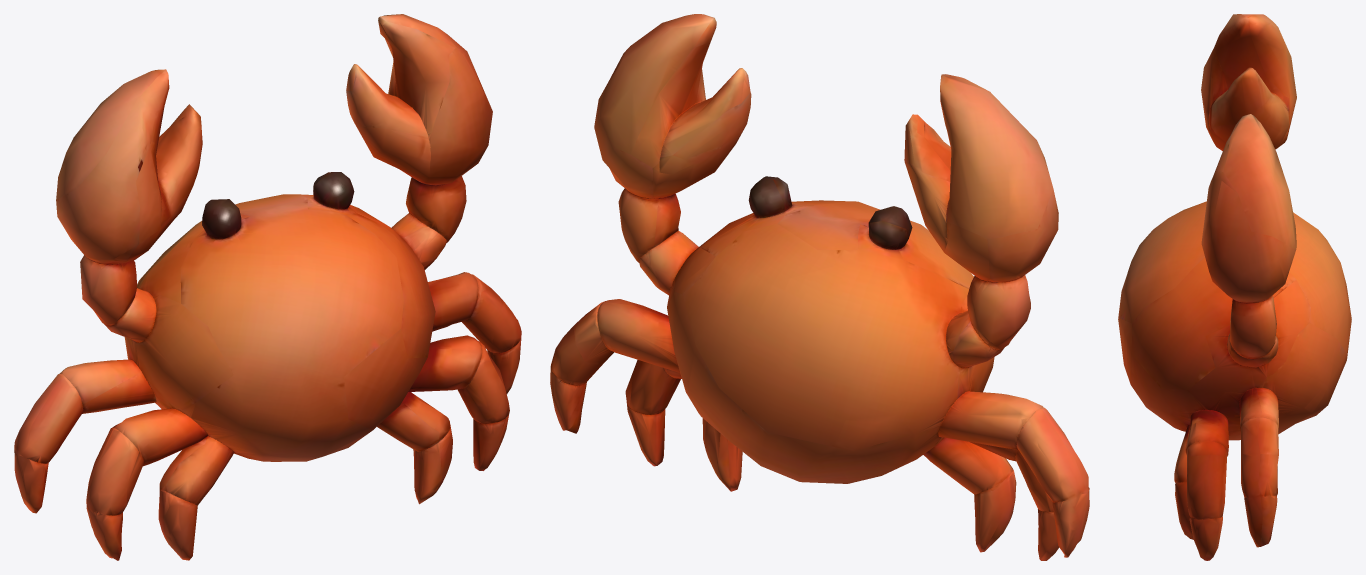
The model's file is crab_pbr.glb.
The picture shows the model from 3 angles, left to right: view 1: azimuth 30°, elevation 25°; view 2: azimuth 150°, elevation 25°; view 3: azimuth 270°, elevation 25°; orthographic projection. The views are drawn at different scales.
Visible parts, largest first — view 1: model.003; view 2: model.003; view 3: model.003.
Boxes of the visible parts, bbox=[...] form: model.003: bbox=[14, 14, 521, 560]; model.003: bbox=[550, 14, 1089, 560]; model.003: bbox=[1118, 14, 1351, 560].
Bounding box in the file's own units: 1.36 × 1.22 × 0.6075.
Materials: 1 (1 with a texture image).
